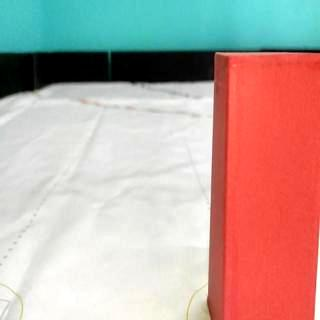redbox: (208, 51, 318, 320)
